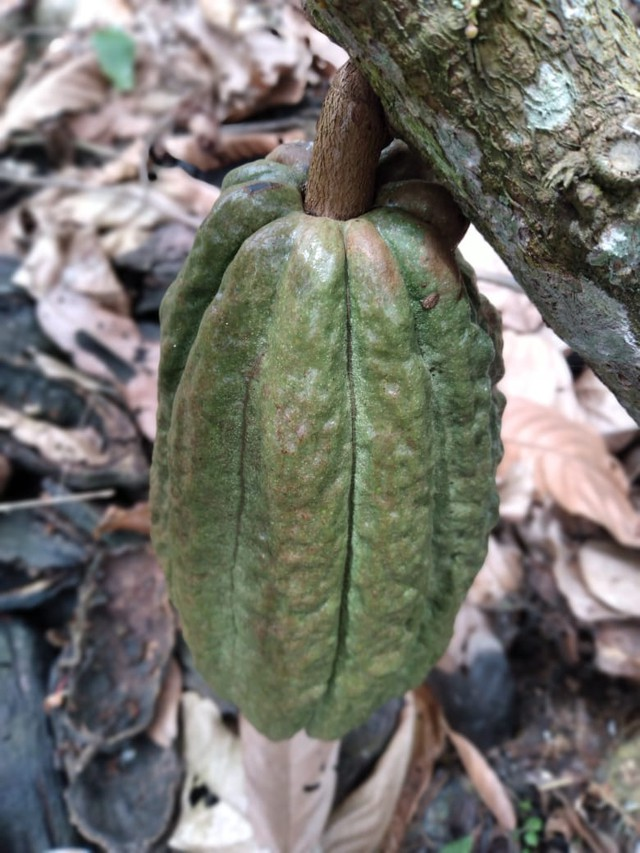Health: (134, 104, 544, 766)
